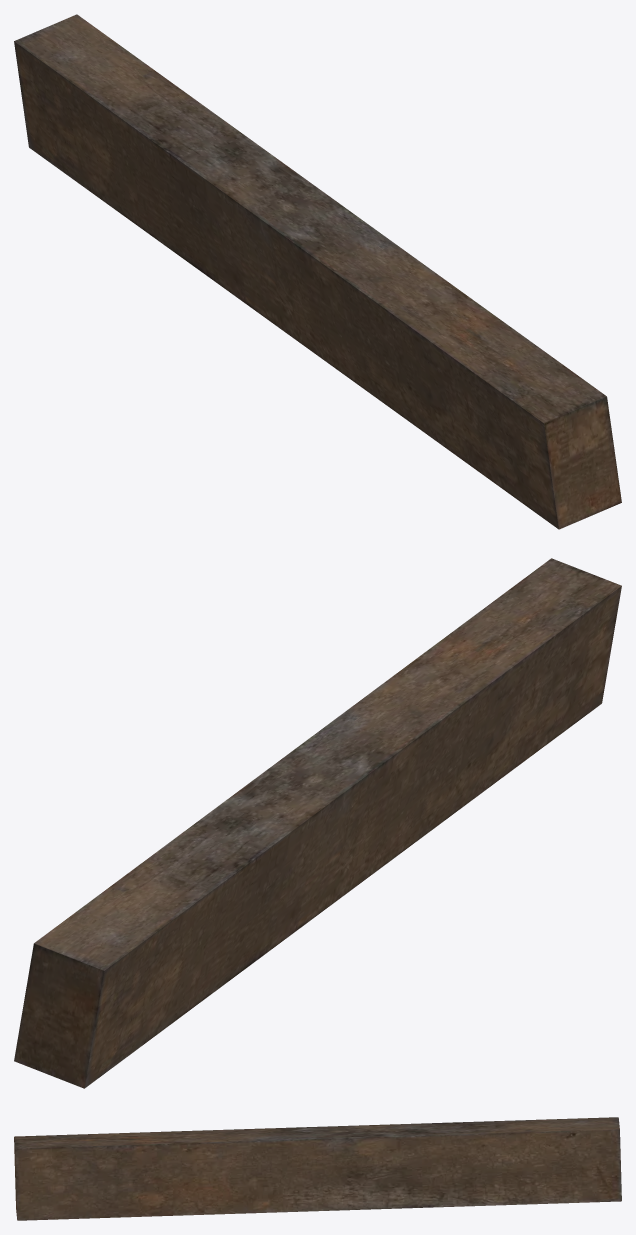
The model's file is BoxWoodC.glb.
The picture shows the model from 3 angles, top to bottom: view 1: azimuth 30°, elevation 25°; view 2: azimuth 150°, elevation 25°; view 3: azimuth 270°, elevation 25°; orthographic projection. The views are drawn at different scales.
Visible parts, largest first — view 1: BoxWoodC; view 2: BoxWoodC; view 3: BoxWoodC.
Boxes of the visible parts, x1=… form: BoxWoodC: x1=14, y1=14, x2=621, y2=529; BoxWoodC: x1=14, y1=558, x2=621, y2=1088; BoxWoodC: x1=14, y1=1117, x2=621, y2=1220.
Bounding box in the file's own units: 0.1687 × 0.2141 × 1.39.
1 material, 1 textured.
